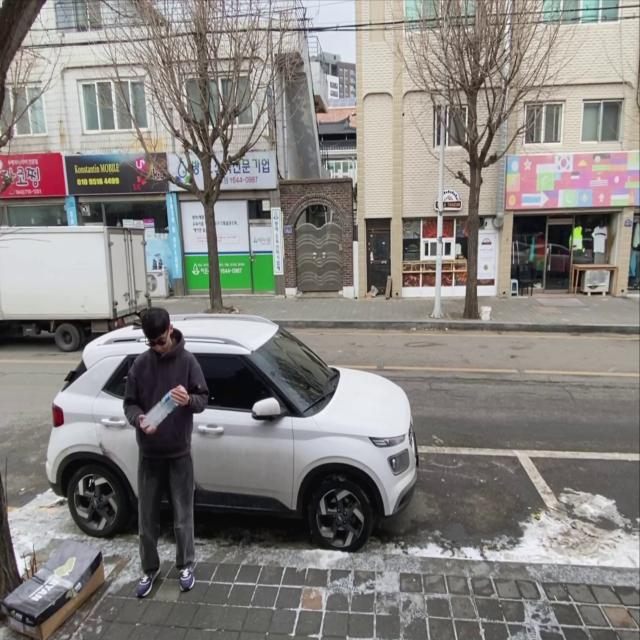bare_hand: (140, 416, 159, 438), (172, 387, 191, 407)
